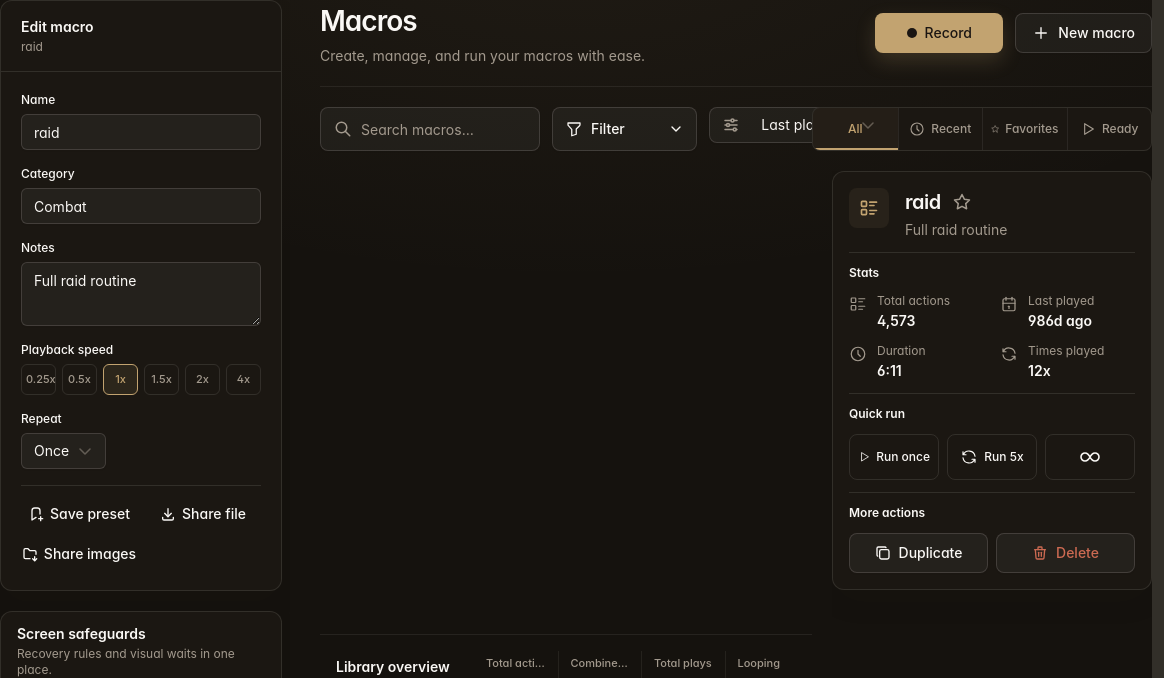
Macros workspace › loads macros and filters them through search
Type "farming" into the field with placeholder "Search macros…". click: (430, 129)
box: [320,107,540,151]
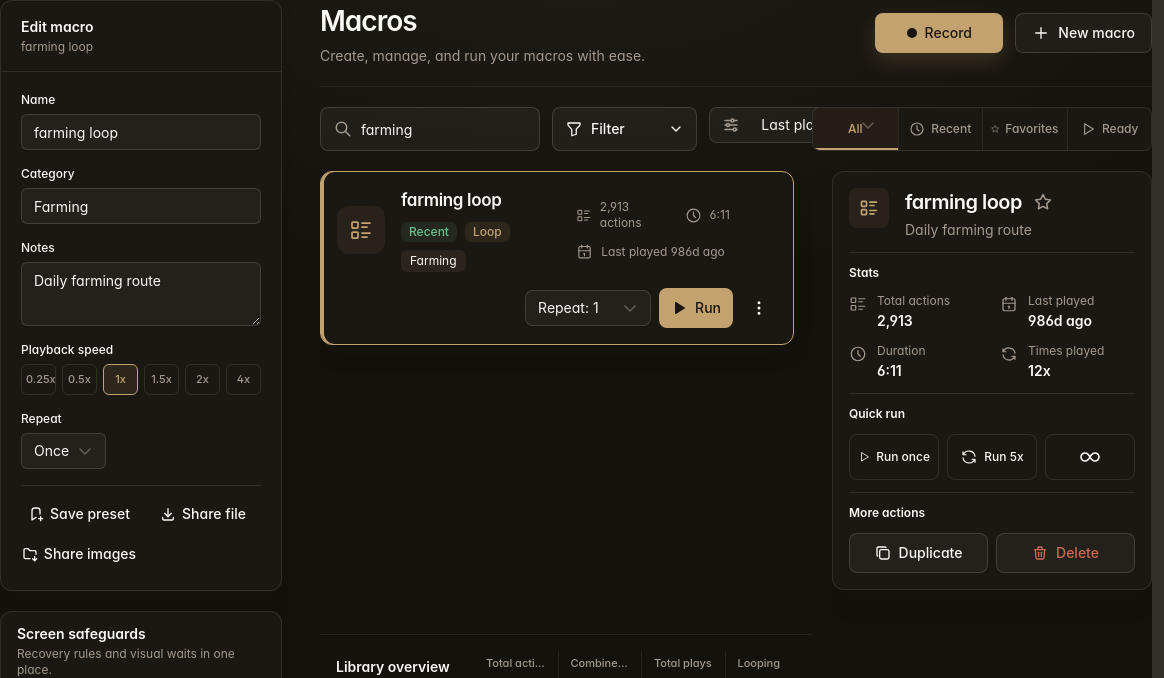
Result: the text "raid" is gone
